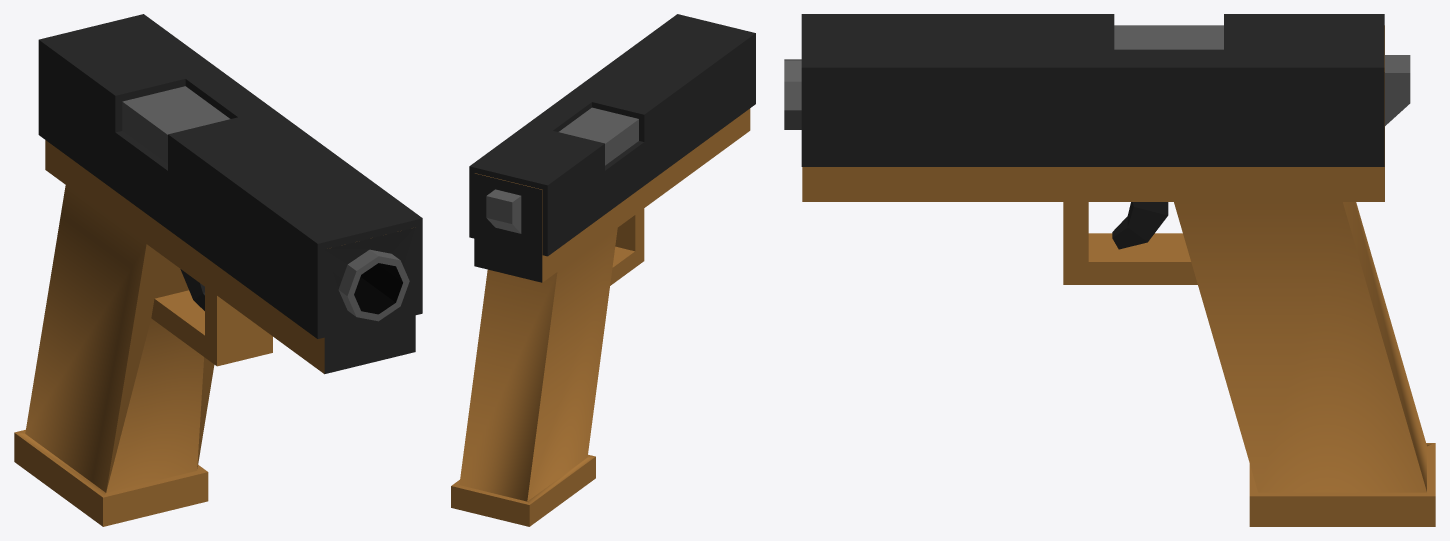
Rendered from Glock.fbx.
The picture shows the model from 3 angles, left to right: view 1: azimuth 30°, elevation 25°; view 2: azimuth 150°, elevation 25°; view 3: azimuth 270°, elevation 25°; orthographic projection. The views are drawn at different scales.
Parts seen in each view (by area): view 1: Glock; view 2: Glock; view 3: Glock.
Boxes of the visible parts, x1=… form: Glock: x1=14, y1=14, x2=422, y2=526; Glock: x1=451, y1=14, x2=755, y2=526; Glock: x1=784, y1=14, x2=1435, y2=526.
Size of the model in its own units: 13.5 by 54.03 by 69.4.
